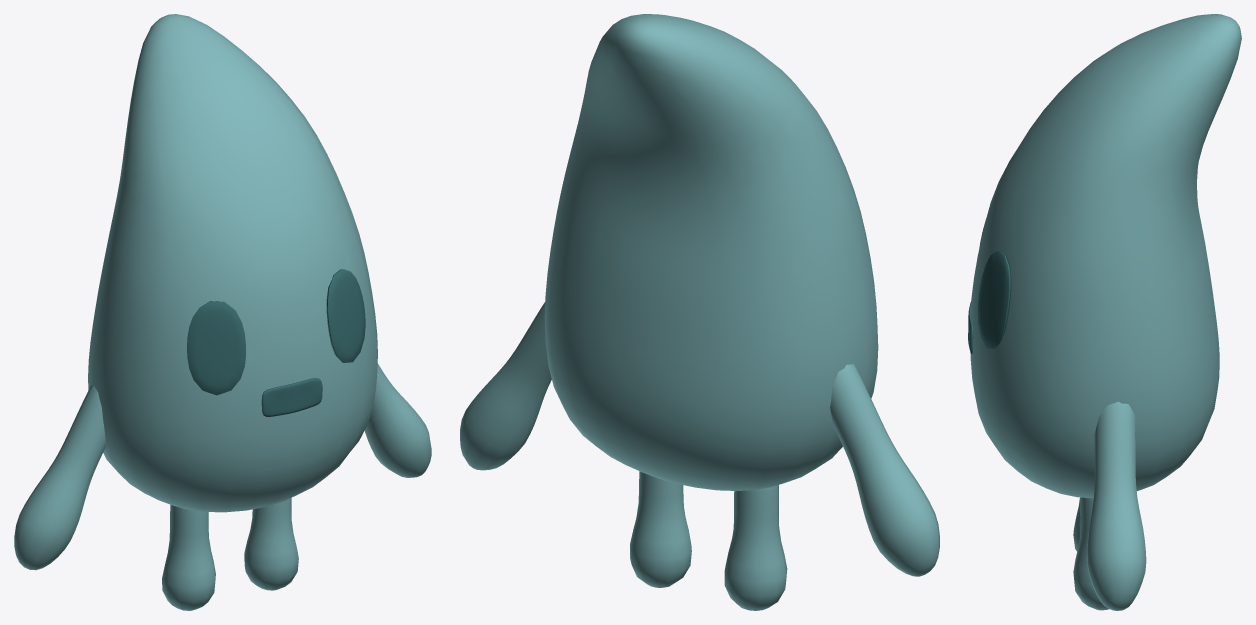
File: _GotaUV_low.fbx
3 renders of one model, left to right at view 1: azimuth 30°, elevation 25°; view 2: azimuth 150°, elevation 25°; view 3: azimuth 270°, elevation 25°, orthographic. The views are drawn at different scales.
Parts seen in each view (by area): view 1: _GotaBody_low, _GotaBrazoDER_low, _GotaOjoDEr_low, _GotaBrazoIZQ_low, _GotaPiernaDER_low, _GotaPiernaIZQ_low, _GotaOjoIZQ_low, _GotaBoca_low; view 2: _GotaBody_low, _GotaBrazoDER_low, _GotaBrazoIZQ_low, _GotaPiernaDER_low, _GotaPiernaIZQ_low; view 3: _GotaBody_low, _GotaBrazoIZQ_low, _GotaOjoIZQ_low, _GotaPiernaIZQ_low.
Boxes of the visible parts, x1,y1,x2,y2 form: _GotaBody_low: (88, 14, 377, 512); _GotaBrazoDER_low: (14, 385, 105, 570); _GotaOjoDEr_low: (187, 301, 245, 395); _GotaBrazoIZQ_low: (364, 363, 431, 477); _GotaPiernaDER_low: (162, 505, 215, 610); _GotaPiernaIZQ_low: (244, 498, 298, 590); _GotaOjoIZQ_low: (326, 269, 365, 362); _GotaBoca_low: (261, 378, 322, 416); _GotaBody_low: (544, 14, 878, 490); _GotaBrazoDER_low: (830, 364, 939, 576); _GotaBrazoIZQ_low: (460, 302, 551, 470); _GotaPiernaDER_low: (724, 485, 787, 610); _GotaPiernaIZQ_low: (630, 471, 691, 587); _GotaBody_low: (970, 14, 1241, 498); _GotaBrazoIZQ_low: (1087, 401, 1146, 610); _GotaOjoIZQ_low: (977, 251, 1011, 348); _GotaPiernaIZQ_low: (1073, 497, 1109, 610).
Size of the model in its own units: 3.66 by 4.59 by 2.
